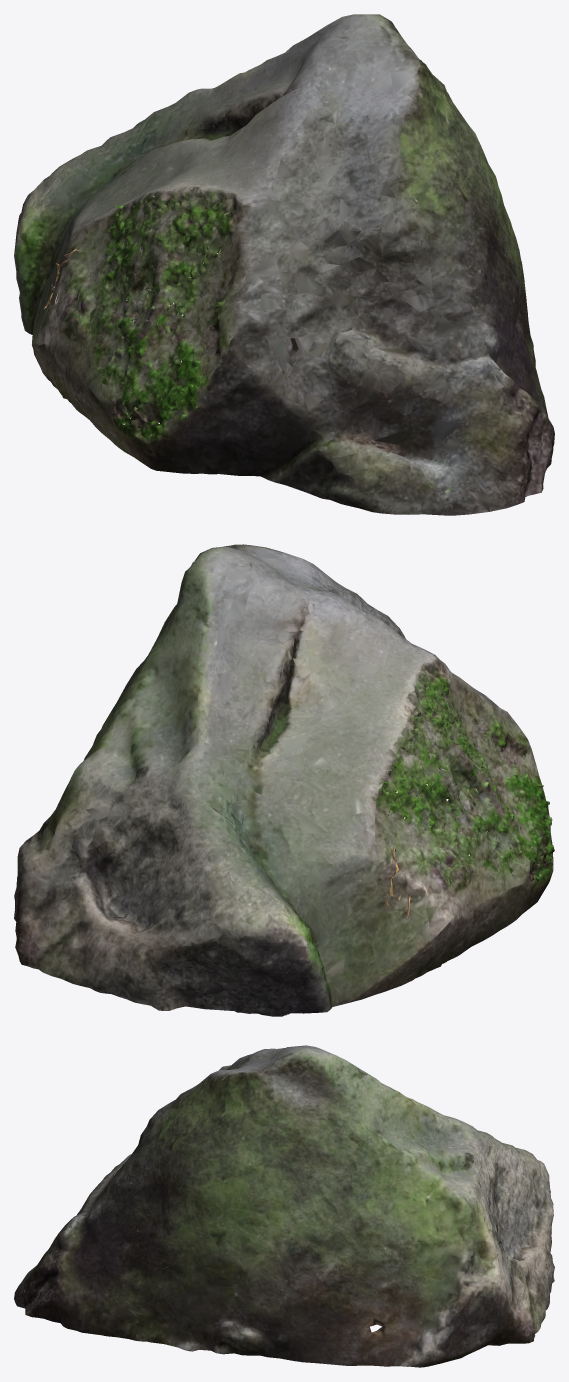
The model's file is mossy-boulder-rock.glb.
3 renders of one model, top to bottom at view 1: azimuth 30°, elevation 25°; view 2: azimuth 150°, elevation 25°; view 3: azimuth 270°, elevation 25°, orthographic. The views are drawn at different scales.
Visible parts, largest first — view 1: Mossy Boulder Rock.001; view 2: Mossy Boulder Rock.001; view 3: Mossy Boulder Rock.001.
Part boxes in pixels (x1,y1,x2,y2): Mossy Boulder Rock.001: (14,14,554,515); Mossy Boulder Rock.001: (14,544,554,1016); Mossy Boulder Rock.001: (14,1045,554,1367).
Size of the model in its own units: 0.7001 by 0.5361 by 0.9801.
Materials: 1 (1 with a texture image).
